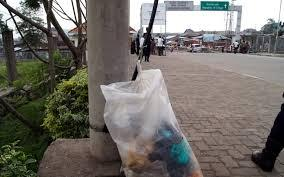Plastic bag: (88, 57, 209, 177)
